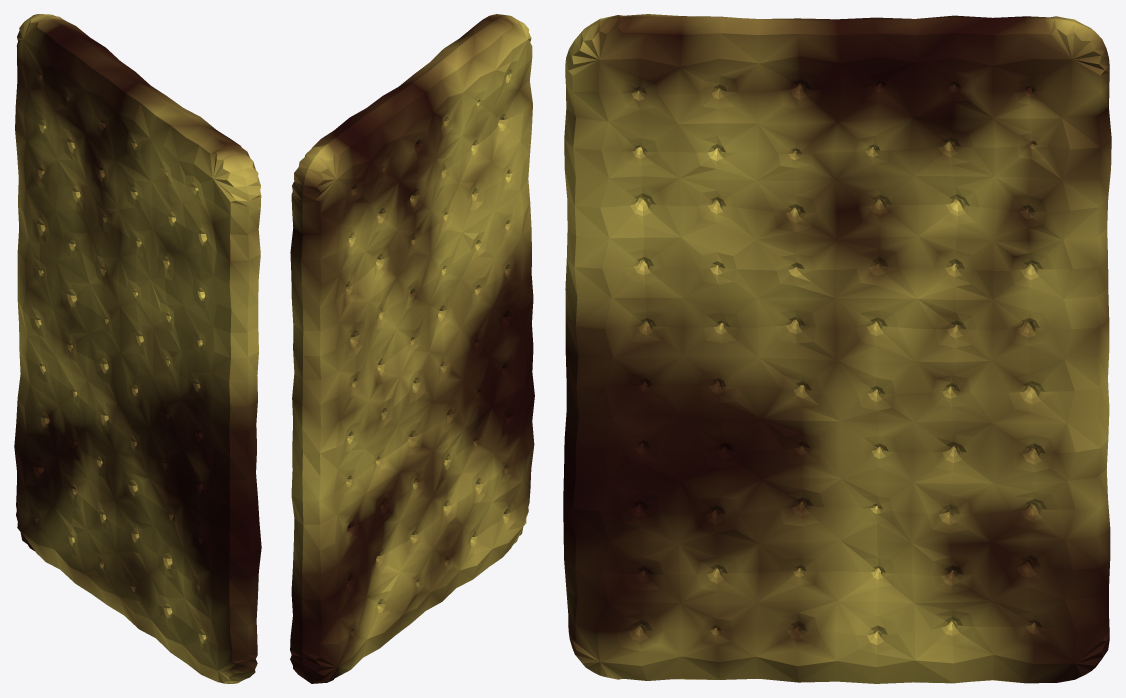
Rendered from tuc.obj.
3 views of the same model, side by side, from view 1: azimuth 30°, elevation 25°; view 2: azimuth 150°, elevation 25°; view 3: azimuth 270°, elevation 25° (orthographic). The views are drawn at different scales.
Visible parts, largest first — view 1: object 1; view 2: object 1; view 3: object 1, pointfilletpolys.
Part boxes in pixels (bbox=[...]): object 1: bbox=[14, 14, 261, 683]; object 1: bbox=[290, 14, 534, 683]; object 1: bbox=[563, 14, 1111, 683]; pointfilletpolys: bbox=[637, 83, 1038, 631].
Size of the model in its own units: 0.1251 by 1.35 by 1.01.
